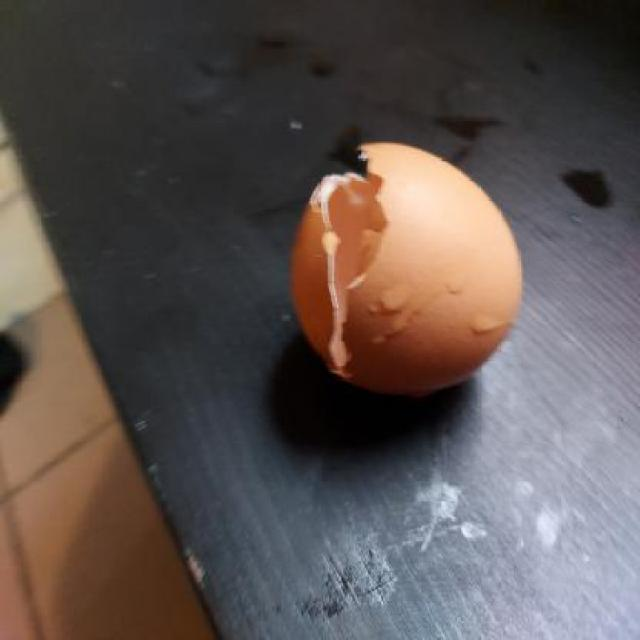biodegradable: (288, 140, 522, 397)
